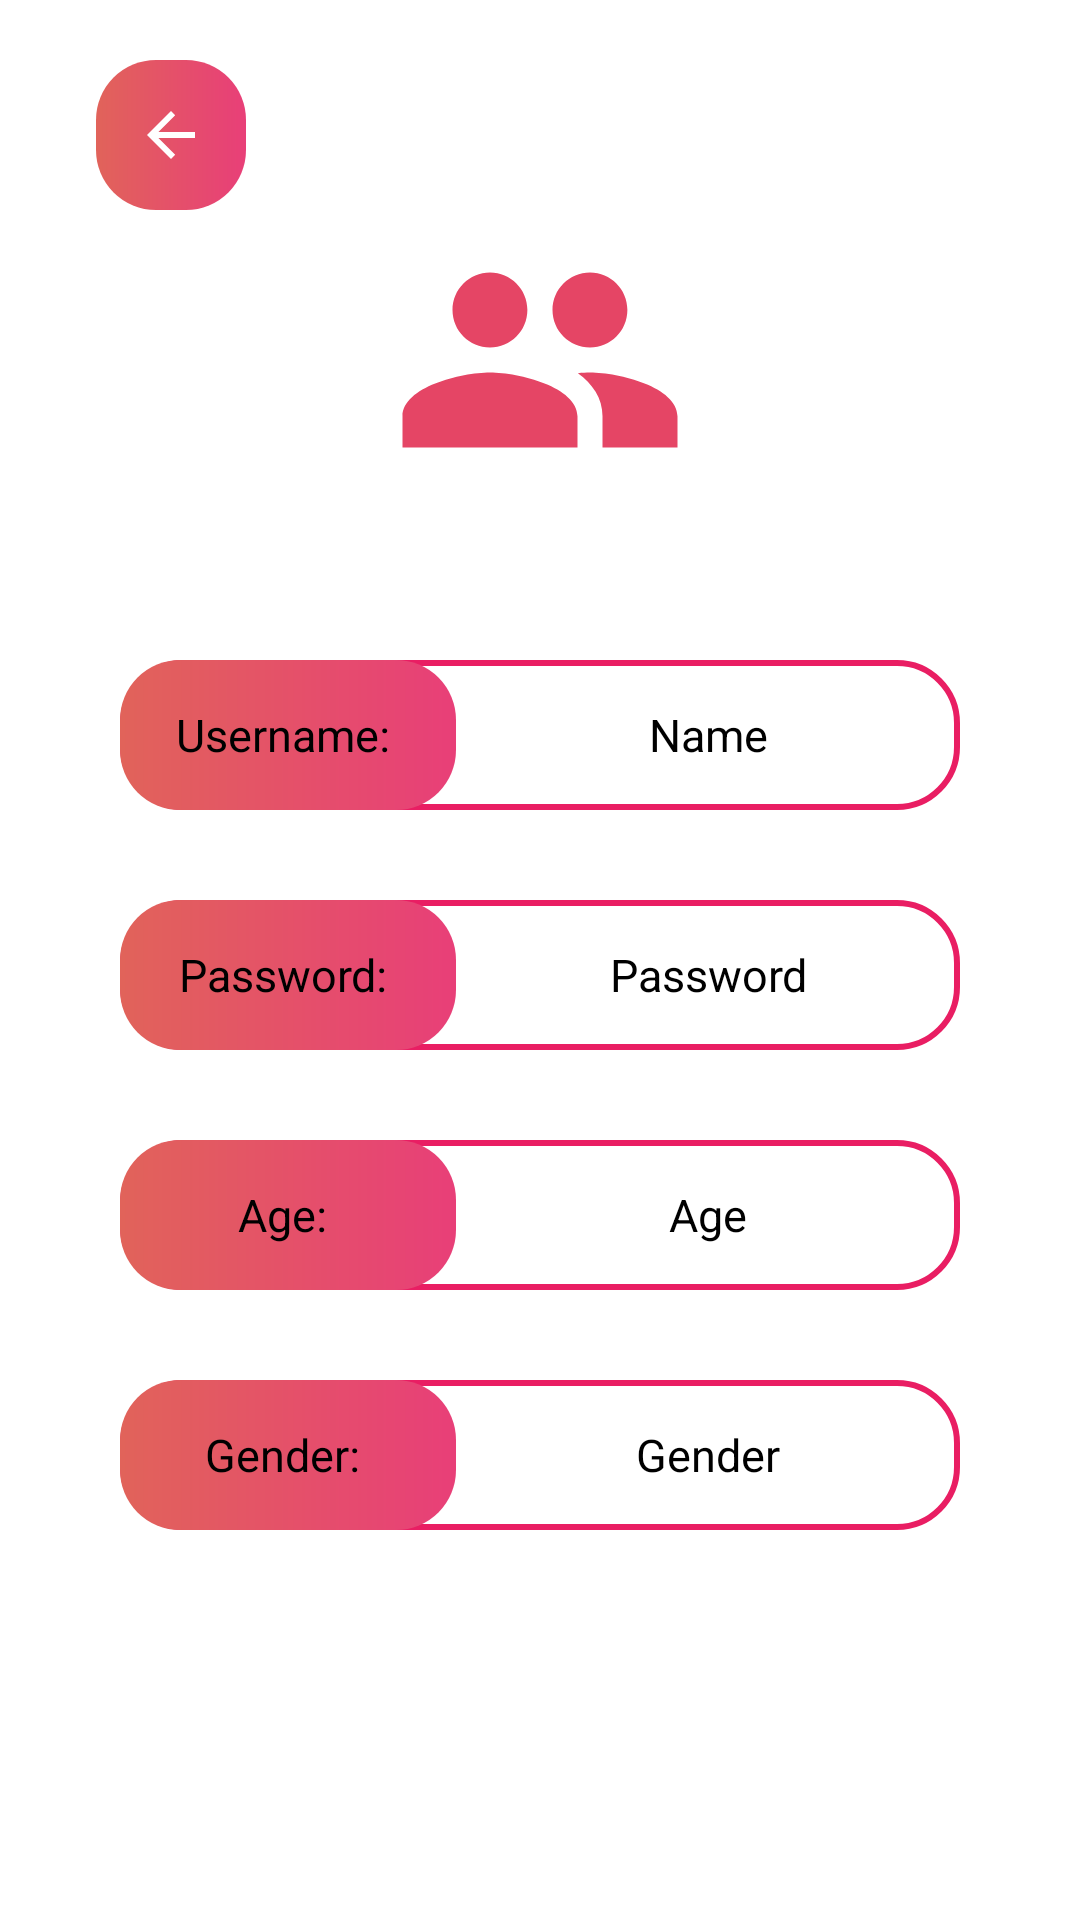

Icons on this 1080px×1920px Android screen, each with the point to tap as (x,y):
people: (540,360)
